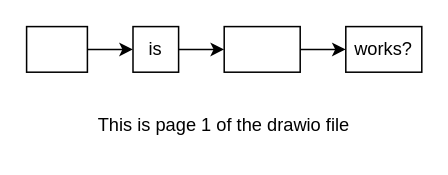
Image size: 448x175. Some labels were removed from this diagram. The shapes that lost their labels are listed below. From the top down, each one's box as (x1, y1, x2, y2) in pixels, then its label:
(25, 25, 87, 72): This
(223, 25, 300, 72): a test
